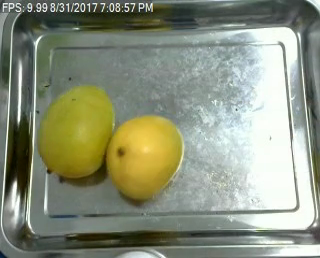Mango: (36, 85, 113, 180), (104, 117, 185, 200)
